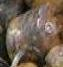cylinder: (0, 1, 63, 67)
